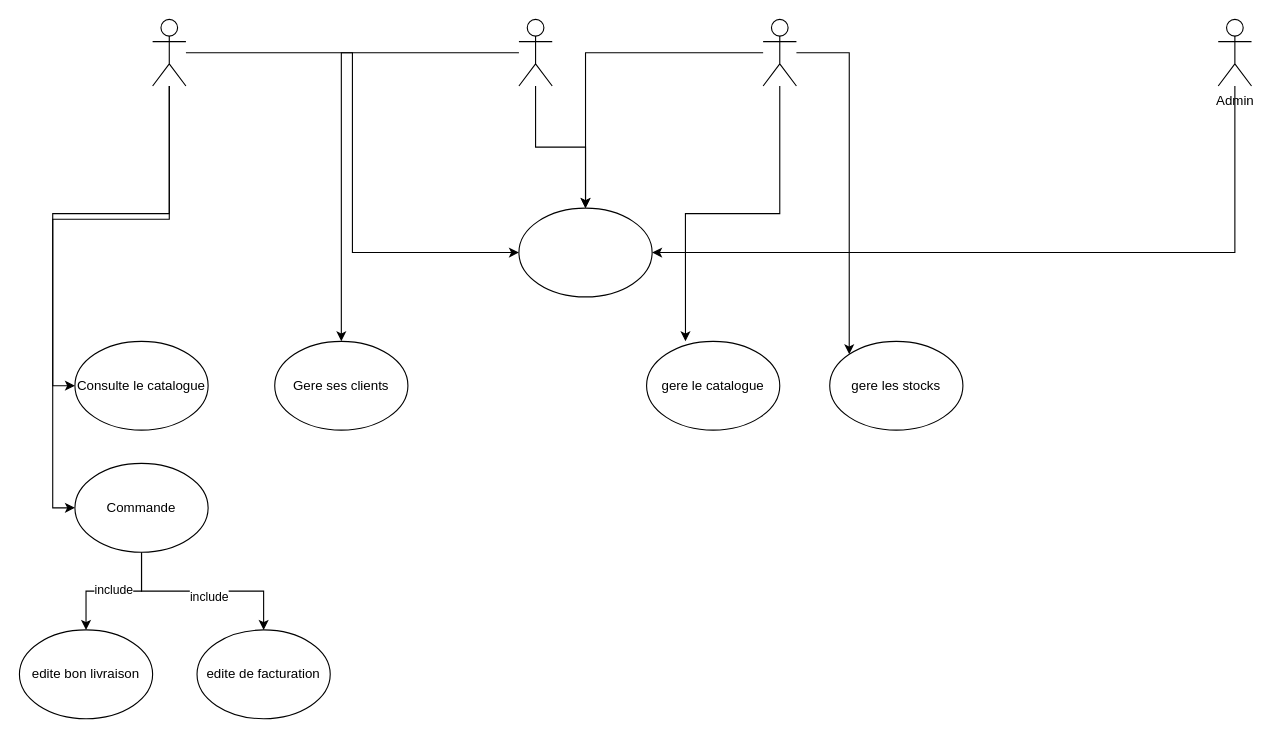
Image size: 1273x738. Some labels were removed from this diagram. Here are the shapes that lost their labels. From the top down, the centre of each, then its label:
(x=169, y=52): Utilisateur
(x=535, y=52): Commercial
(x=779, y=52): equipe Relation fournisseur
(x=585, y=252): Se connecte
